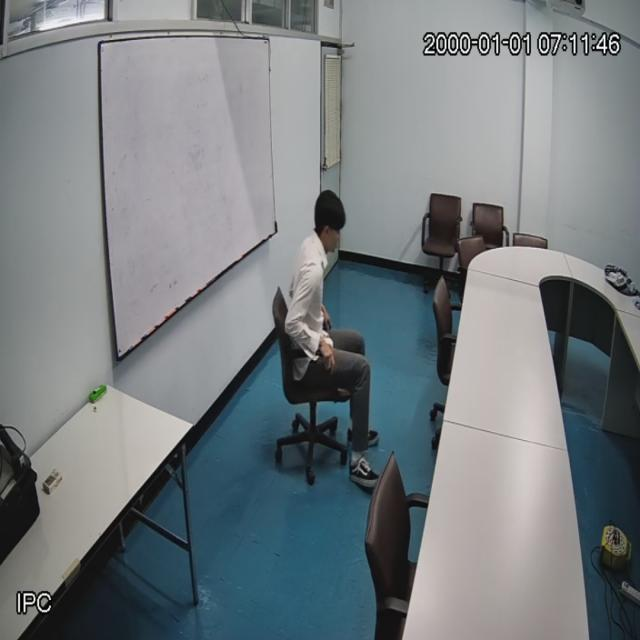normal: (289, 190, 376, 483)
